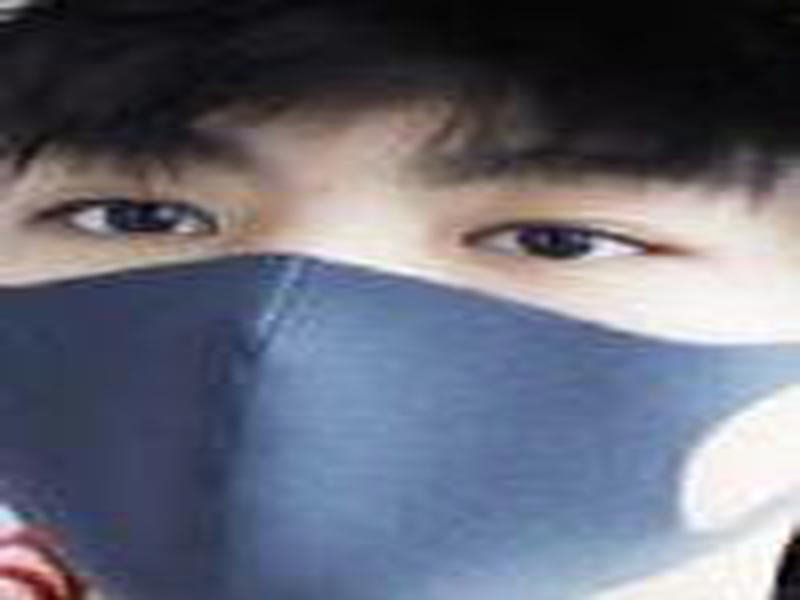with_mask: (3, 1, 800, 598)
